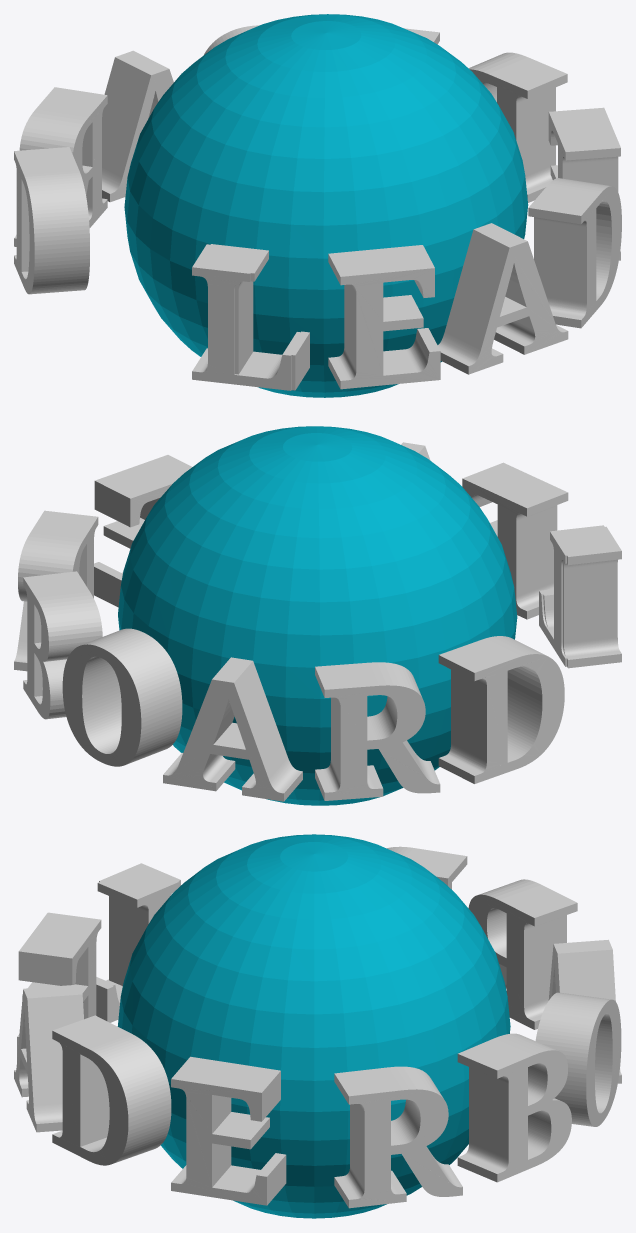
Rendered from Leaderboard.glb.
3 renders of one model, top to bottom at view 1: azimuth 30°, elevation 25°; view 2: azimuth 150°, elevation 25°; view 3: azimuth 270°, elevation 25°, orthographic.
Parts seen in each view (by area): view 1: Mesh_Mesh_head_geo.001_lambert2SG.001; view 2: Mesh_Mesh_head_geo.001_lambert2SG.001; view 3: Mesh_Mesh_head_geo.001_lambert2SG.001.
Part boxes in pixels (x1=…): Mesh_Mesh_head_geo.001_lambert2SG.001: x1=14, y1=14, x2=621, y2=397; Mesh_Mesh_head_geo.001_lambert2SG.001: x1=14, y1=426, x2=621, y2=805; Mesh_Mesh_head_geo.001_lambert2SG.001: x1=14, y1=834, x2=621, y2=1218.
Bounding box in the file's own units: 97.66 × 61 × 97.51.
